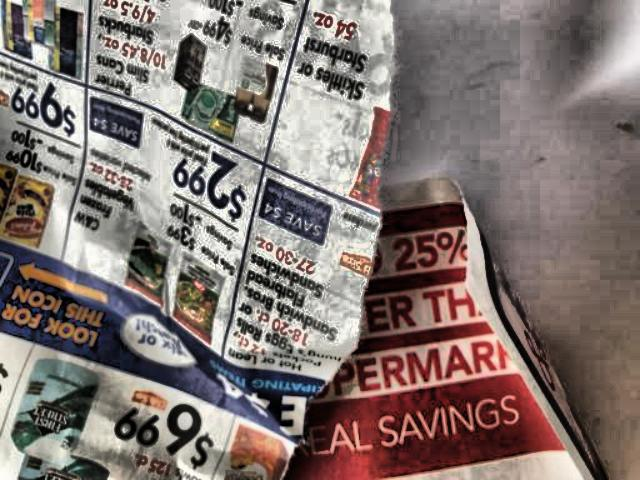Paper: (0, 0, 611, 480)
